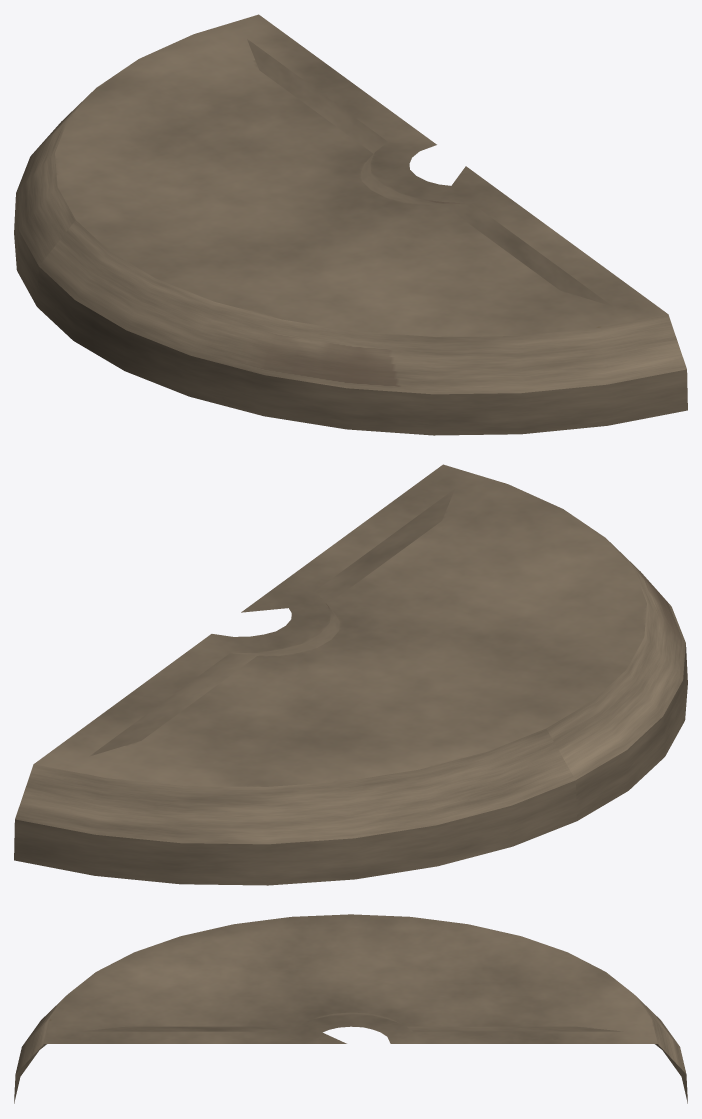
The model's file is keypad cover left.glb.
3 views of the same model, one above another, from view 1: azimuth 30°, elevation 25°; view 2: azimuth 150°, elevation 25°; view 3: azimuth 270°, elevation 25° (orthographic). The views are drawn at different scales.
Visible parts, largest first — view 1: Keypad cover left; view 2: Keypad cover left; view 3: Keypad cover left.
Boxes of the visible parts, x1,y1,x2,y2 form: Keypad cover left: (14, 14, 687, 435); Keypad cover left: (14, 464, 687, 885); Keypad cover left: (14, 914, 687, 1103).
Bounding box in the file's own units: 0.7344 × 0.146 × 1.47.
1 material, 1 textured.
